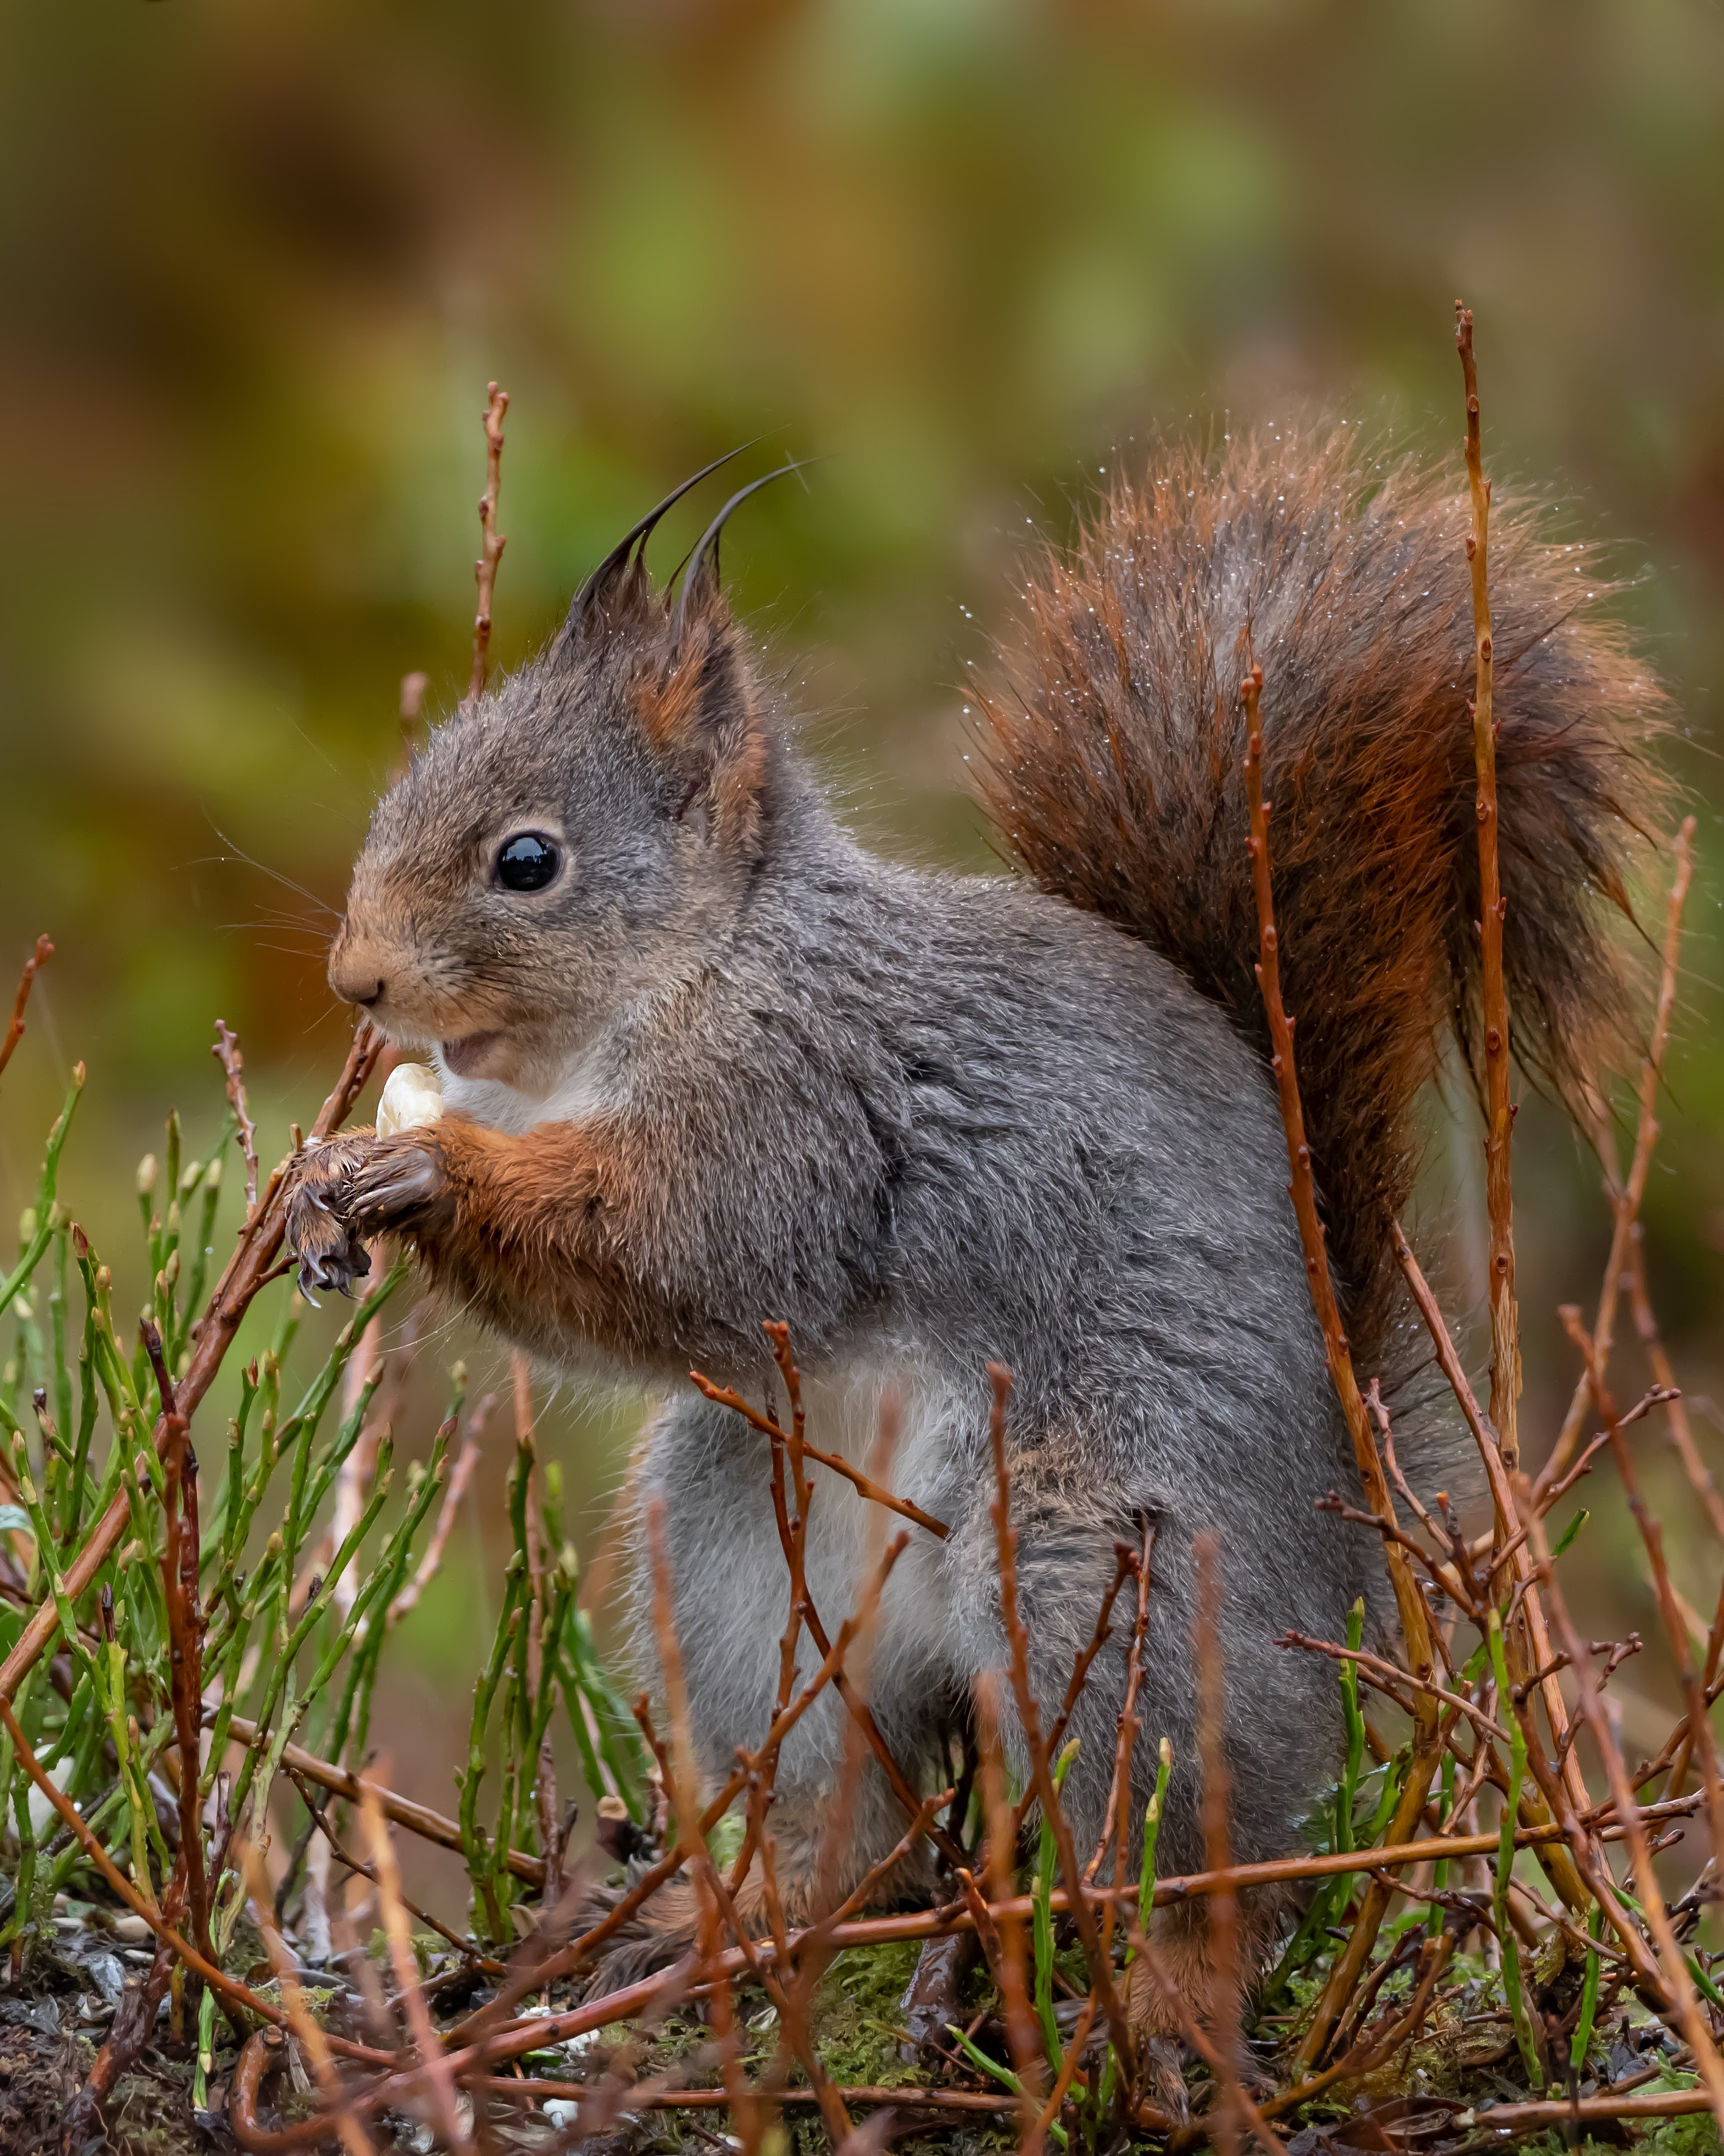squirrel: (289, 412, 1634, 1880)
